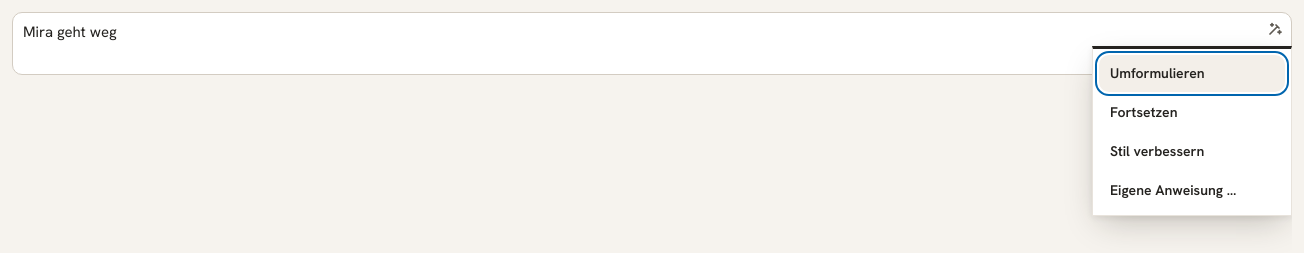
Test: MagicWand › keeps the selection when the wand is clicked
Step 1. Click the menu item "Umformulieren" → (1192, 74), box [1099,55,1285,92]
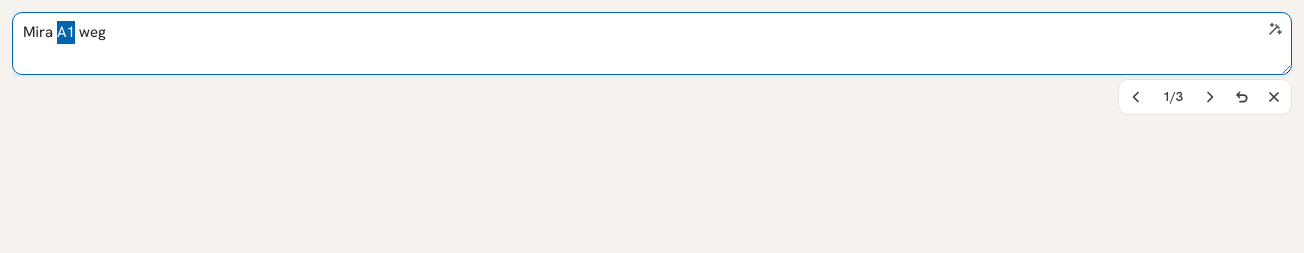
Check: the text "1/3" is shown, box [1163,88,1183,105]
Check: the text box named "Feld" holds "Mira A1 weg", box [12,12,1292,75]
